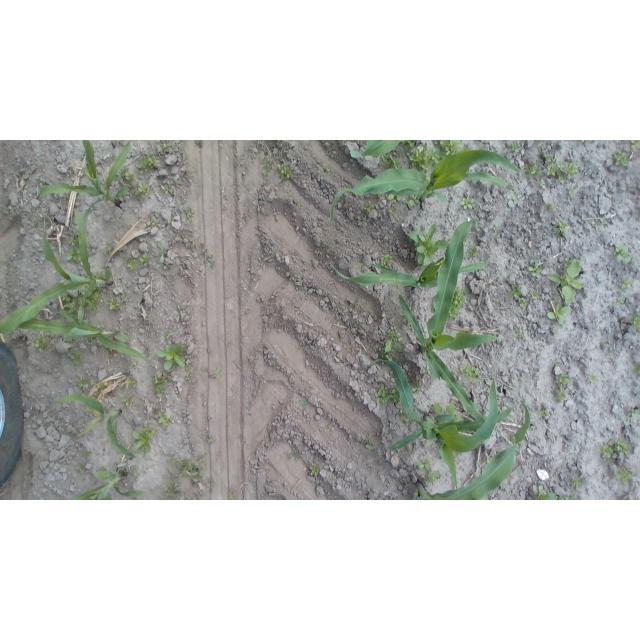Maize: (397, 217, 488, 425), (368, 360, 498, 494), (329, 148, 521, 228), (0, 208, 114, 335), (413, 388, 531, 500), (39, 140, 131, 226), (19, 309, 149, 365), (53, 395, 136, 460), (73, 471, 144, 500), (349, 141, 417, 160)
Weeds: (549, 256, 584, 304), (408, 224, 448, 264), (410, 144, 440, 175), (156, 344, 185, 370), (598, 437, 630, 459), (433, 402, 463, 423), (447, 286, 466, 319), (133, 425, 154, 454), (547, 303, 571, 328), (433, 140, 461, 157), (378, 386, 400, 407), (86, 288, 104, 313), (61, 289, 79, 313), (185, 236, 205, 256), (137, 153, 158, 171), (532, 485, 557, 500), (259, 151, 273, 177), (547, 161, 565, 181), (460, 364, 480, 382), (381, 153, 402, 170), (386, 332, 403, 352), (614, 244, 631, 263), (118, 166, 135, 185), (152, 374, 168, 394), (615, 467, 633, 483), (179, 459, 198, 474), (33, 334, 48, 352), (69, 347, 84, 365), (565, 162, 581, 178), (615, 150, 630, 167), (135, 182, 150, 198), (107, 296, 124, 310), (525, 163, 540, 178), (555, 372, 569, 388), (157, 241, 167, 263), (65, 249, 79, 264), (629, 312, 640, 330), (553, 389, 567, 403), (166, 485, 179, 500), (507, 285, 522, 298), (400, 140, 416, 152), (424, 471, 441, 482), (620, 278, 635, 290), (529, 264, 542, 277), (279, 165, 291, 179), (140, 253, 152, 267), (125, 258, 139, 270), (74, 379, 88, 391), (159, 411, 170, 426), (553, 222, 568, 233), (174, 470, 186, 483), (192, 470, 205, 482), (463, 246, 477, 257), (556, 493, 577, 500), (419, 459, 431, 471), (461, 198, 474, 209), (363, 202, 374, 215), (69, 232, 79, 246), (388, 193, 403, 202), (127, 376, 138, 388), (382, 254, 393, 266), (571, 476, 581, 489), (408, 195, 418, 208), (122, 397, 133, 408), (163, 183, 173, 195), (207, 254, 215, 269), (309, 465, 320, 475), (587, 374, 597, 385), (518, 299, 528, 310), (411, 383, 422, 393), (365, 440, 376, 450), (185, 207, 194, 218), (569, 185, 578, 196), (631, 363, 640, 374), (516, 327, 525, 338), (98, 381, 107, 391), (130, 466, 139, 476), (629, 409, 639, 418), (548, 202, 556, 213), (169, 456, 181, 463), (147, 218, 156, 227), (96, 271, 105, 280), (631, 140, 640, 149), (162, 140, 170, 150), (511, 142, 519, 152), (400, 311, 408, 321), (292, 452, 300, 461), (539, 410, 547, 419), (193, 141, 203, 148), (173, 178, 183, 185), (76, 464, 84, 472), (616, 298, 624, 306), (462, 142, 470, 150), (302, 398, 309, 407), (386, 352, 393, 361), (229, 493, 237, 500), (545, 154, 552, 162), (513, 196, 521, 203), (207, 435, 213, 444), (539, 180, 545, 189), (402, 419, 411, 425), (167, 331, 174, 338), (391, 208, 398, 215), (81, 287, 87, 295), (83, 452, 92, 457), (109, 150, 116, 156), (167, 217, 174, 223), (122, 291, 129, 297), (217, 366, 224, 372), (601, 218, 608, 224), (537, 140, 544, 146), (494, 226, 501, 232), (353, 303, 357, 312), (199, 457, 206, 462), (201, 368, 208, 373), (100, 466, 107, 471), (532, 292, 537, 299), (397, 412, 404, 417), (323, 166, 329, 171), (588, 219, 593, 225), (420, 266, 426, 271), (382, 351, 387, 357), (88, 337, 95, 341), (360, 263, 365, 268), (74, 315, 79, 320), (556, 362, 561, 367), (604, 341, 609, 346), (437, 455, 442, 460), (104, 247, 108, 253), (185, 376, 191, 380), (361, 219, 367, 223), (398, 362, 404, 366), (132, 362, 137, 366), (199, 490, 204, 494), (416, 318, 421, 322), (382, 415, 387, 419), (117, 141, 123, 144), (175, 141, 181, 144), (76, 273, 81, 276), (120, 467, 125, 470), (164, 265, 167, 269), (582, 140, 585, 142)
